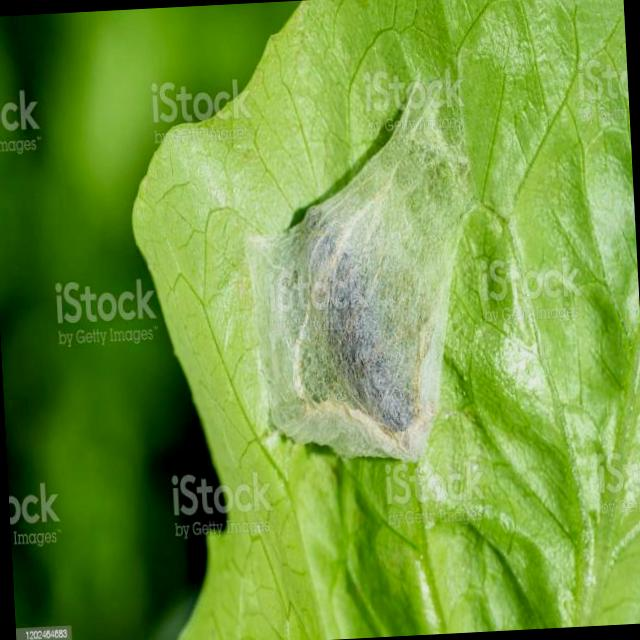Bacterial: (227, 102, 506, 480)
